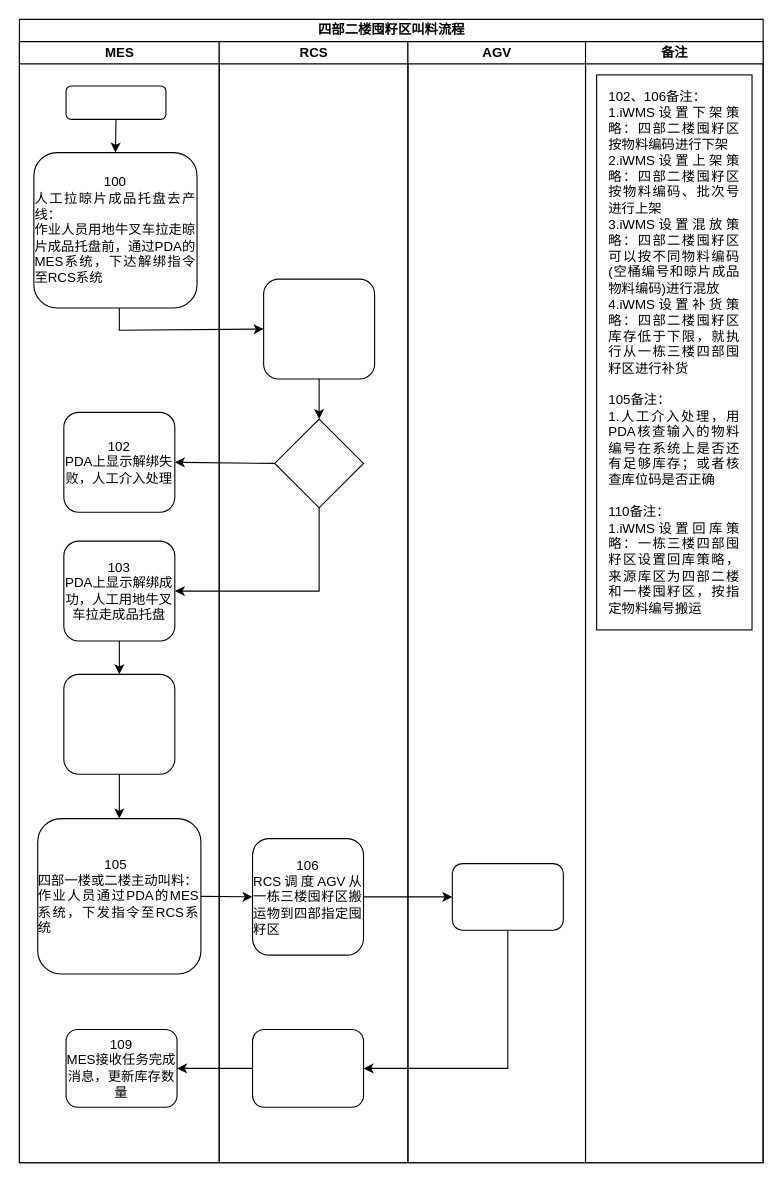
The diagram is 783 pixels wide and 1182 high, and some of its shapes have lost their labels. Each missing label, with the centre of its shape:
101 RCS解绑地码上的托盘: the point at 319,328
104 人工拉走3-5个托盘后，清空一个巷道并开始叫料: the point at 119,723
107 AGV搬运物料至终点: the point at 507,896
108 RCS通知MES，任务执行完成: the point at 307,1067
开始: the point at 115,102
解绑状态: the point at 319,463
